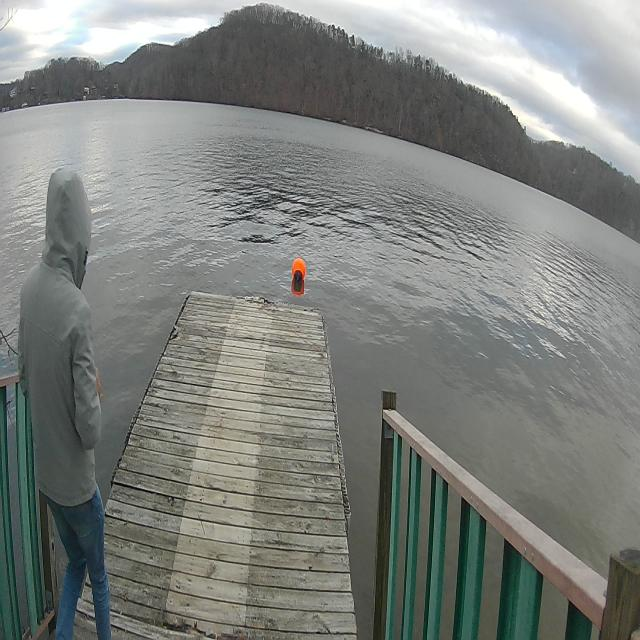Buoy: (292, 256, 306, 286)
